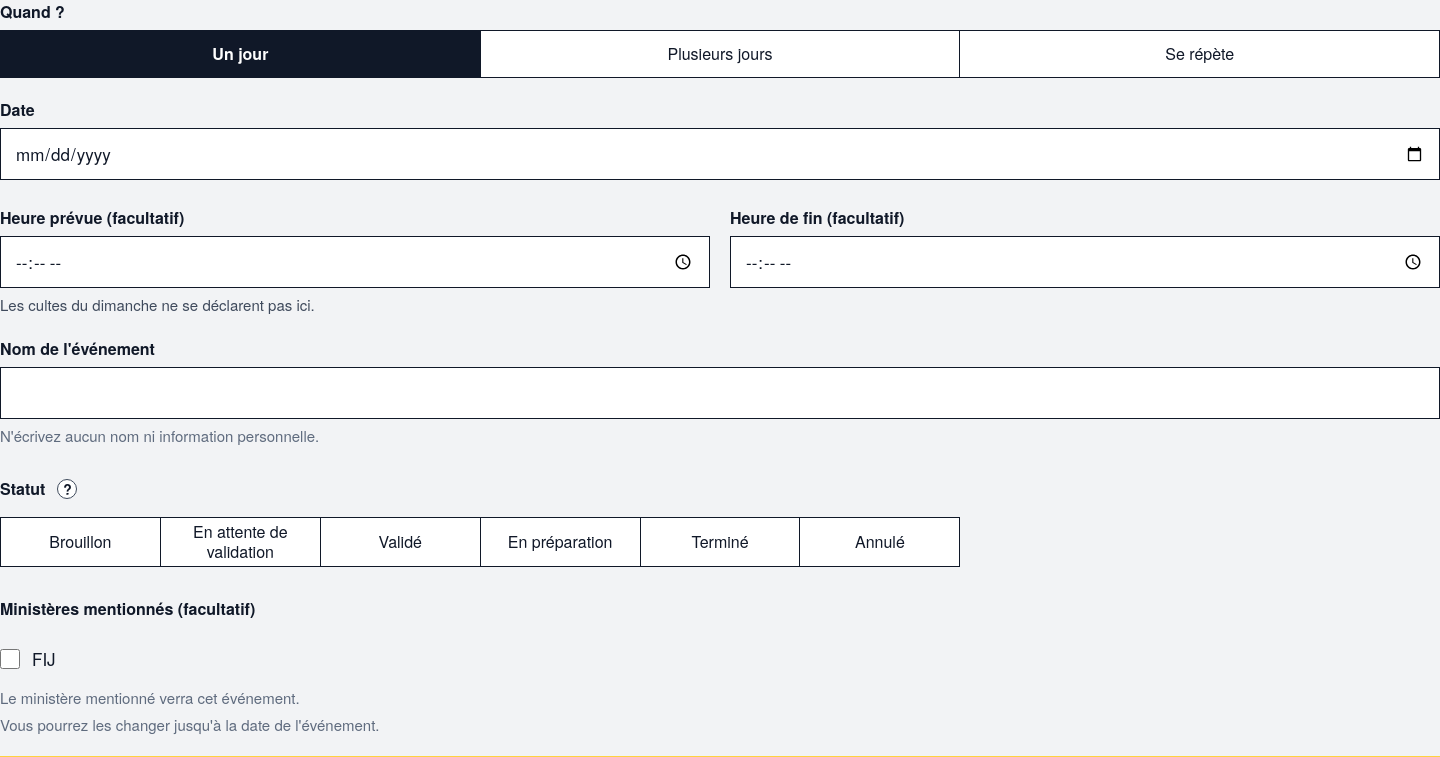
Scenario: « Ajouter un événement » : Quand ? (T78, lot 2) › « Un jour » coché d’avance, sans phrase ; les deux autres cases disent leur règle
Expected: the element "Quand ?" is shown, [0,0,1439,78]
Expected: the radio button labelled "Un jour" is checked, [0,30,481,78]
Click the radio button labelled "Plusieurs jours": point(720, 54) [480,30,960,78]
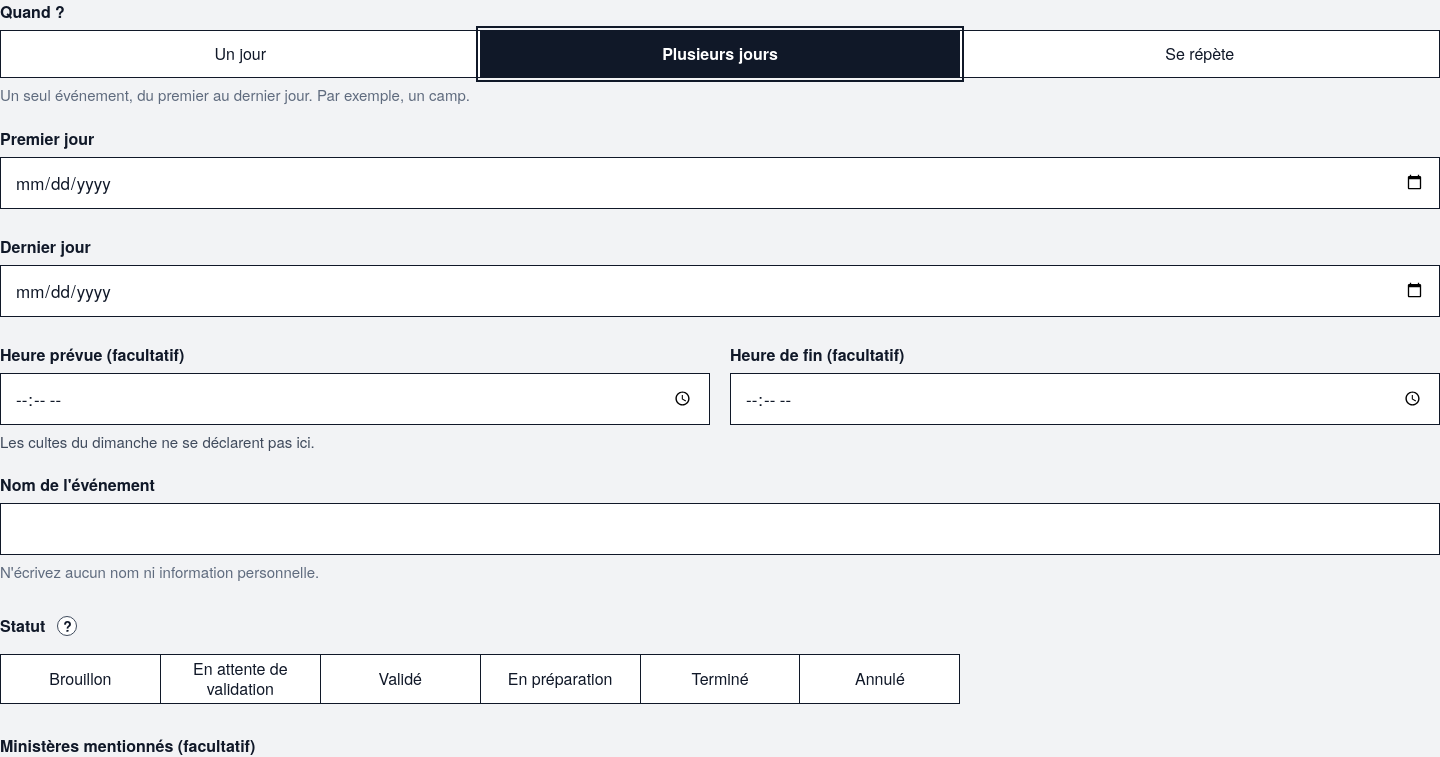
Expected: the date field labelled "Premier jour" is shown, [0,156,1439,208]
Expected: the text "Un seul événement, du premier au dernier jour. Par exemple, un camp." is shown, [0,84,470,105]
Expected: the date field labelled "Dernier jour" is shown, [0,264,1439,316]
